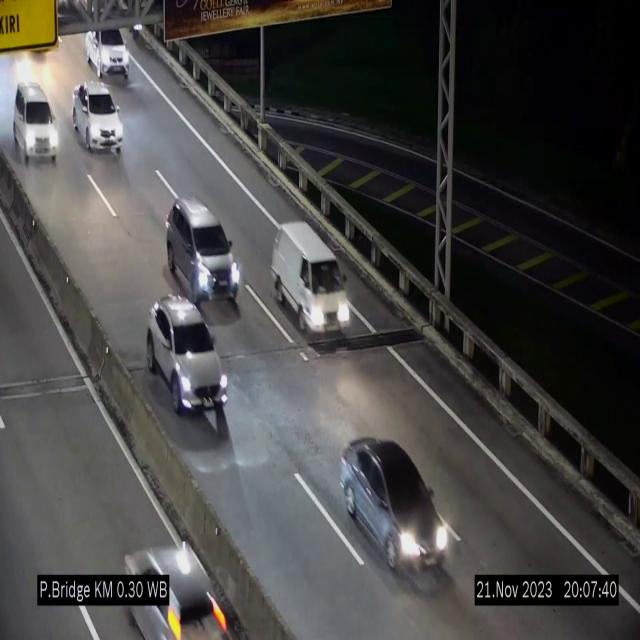Car: (341, 434, 448, 586), (116, 535, 227, 640), (148, 295, 228, 413), (272, 221, 352, 338), (167, 200, 241, 308), (73, 82, 123, 154), (84, 18, 138, 84), (14, 85, 58, 163)
Motorcycle: (127, 8, 147, 43)
